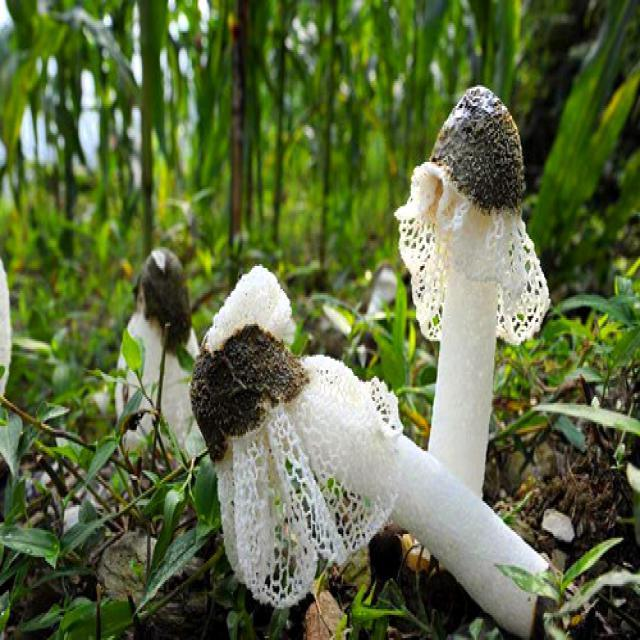Dictyophora indusiate: (189, 264, 558, 640), (398, 86, 548, 499), (116, 244, 191, 450)
